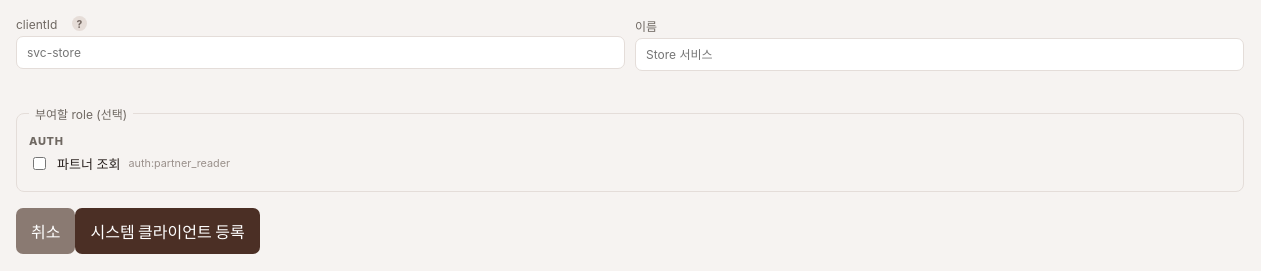
RegisterClientForm › clientId 규칙은 라벨 옆 배지의 툴팁으로 안내한다
Hover over the picture named "clientId 입력 규칙" at (80, 24), box [72,16,87,31]
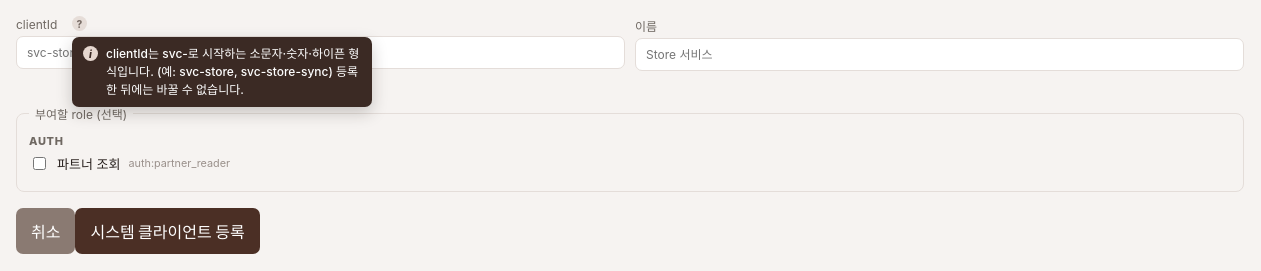
Expected: the tooltip shows "svc-로 시작하는 소문자·숫자·하이픈 형식입니다. (예: svc-store, svc-store-sync) 등록한 뒤에는 바꿀 수 없습니다.", [106,46,359,97]
